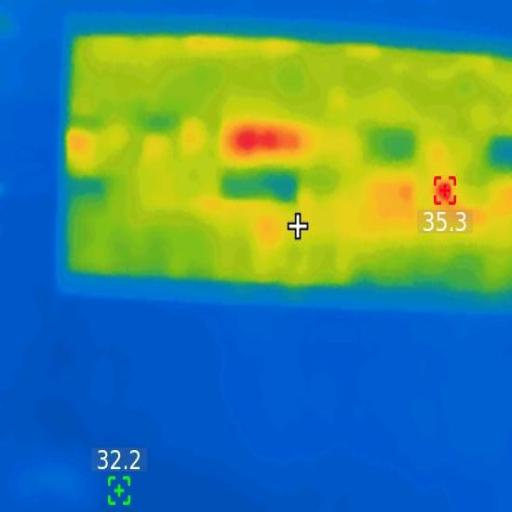hotspot: (227, 120, 308, 164), (429, 178, 459, 209)
